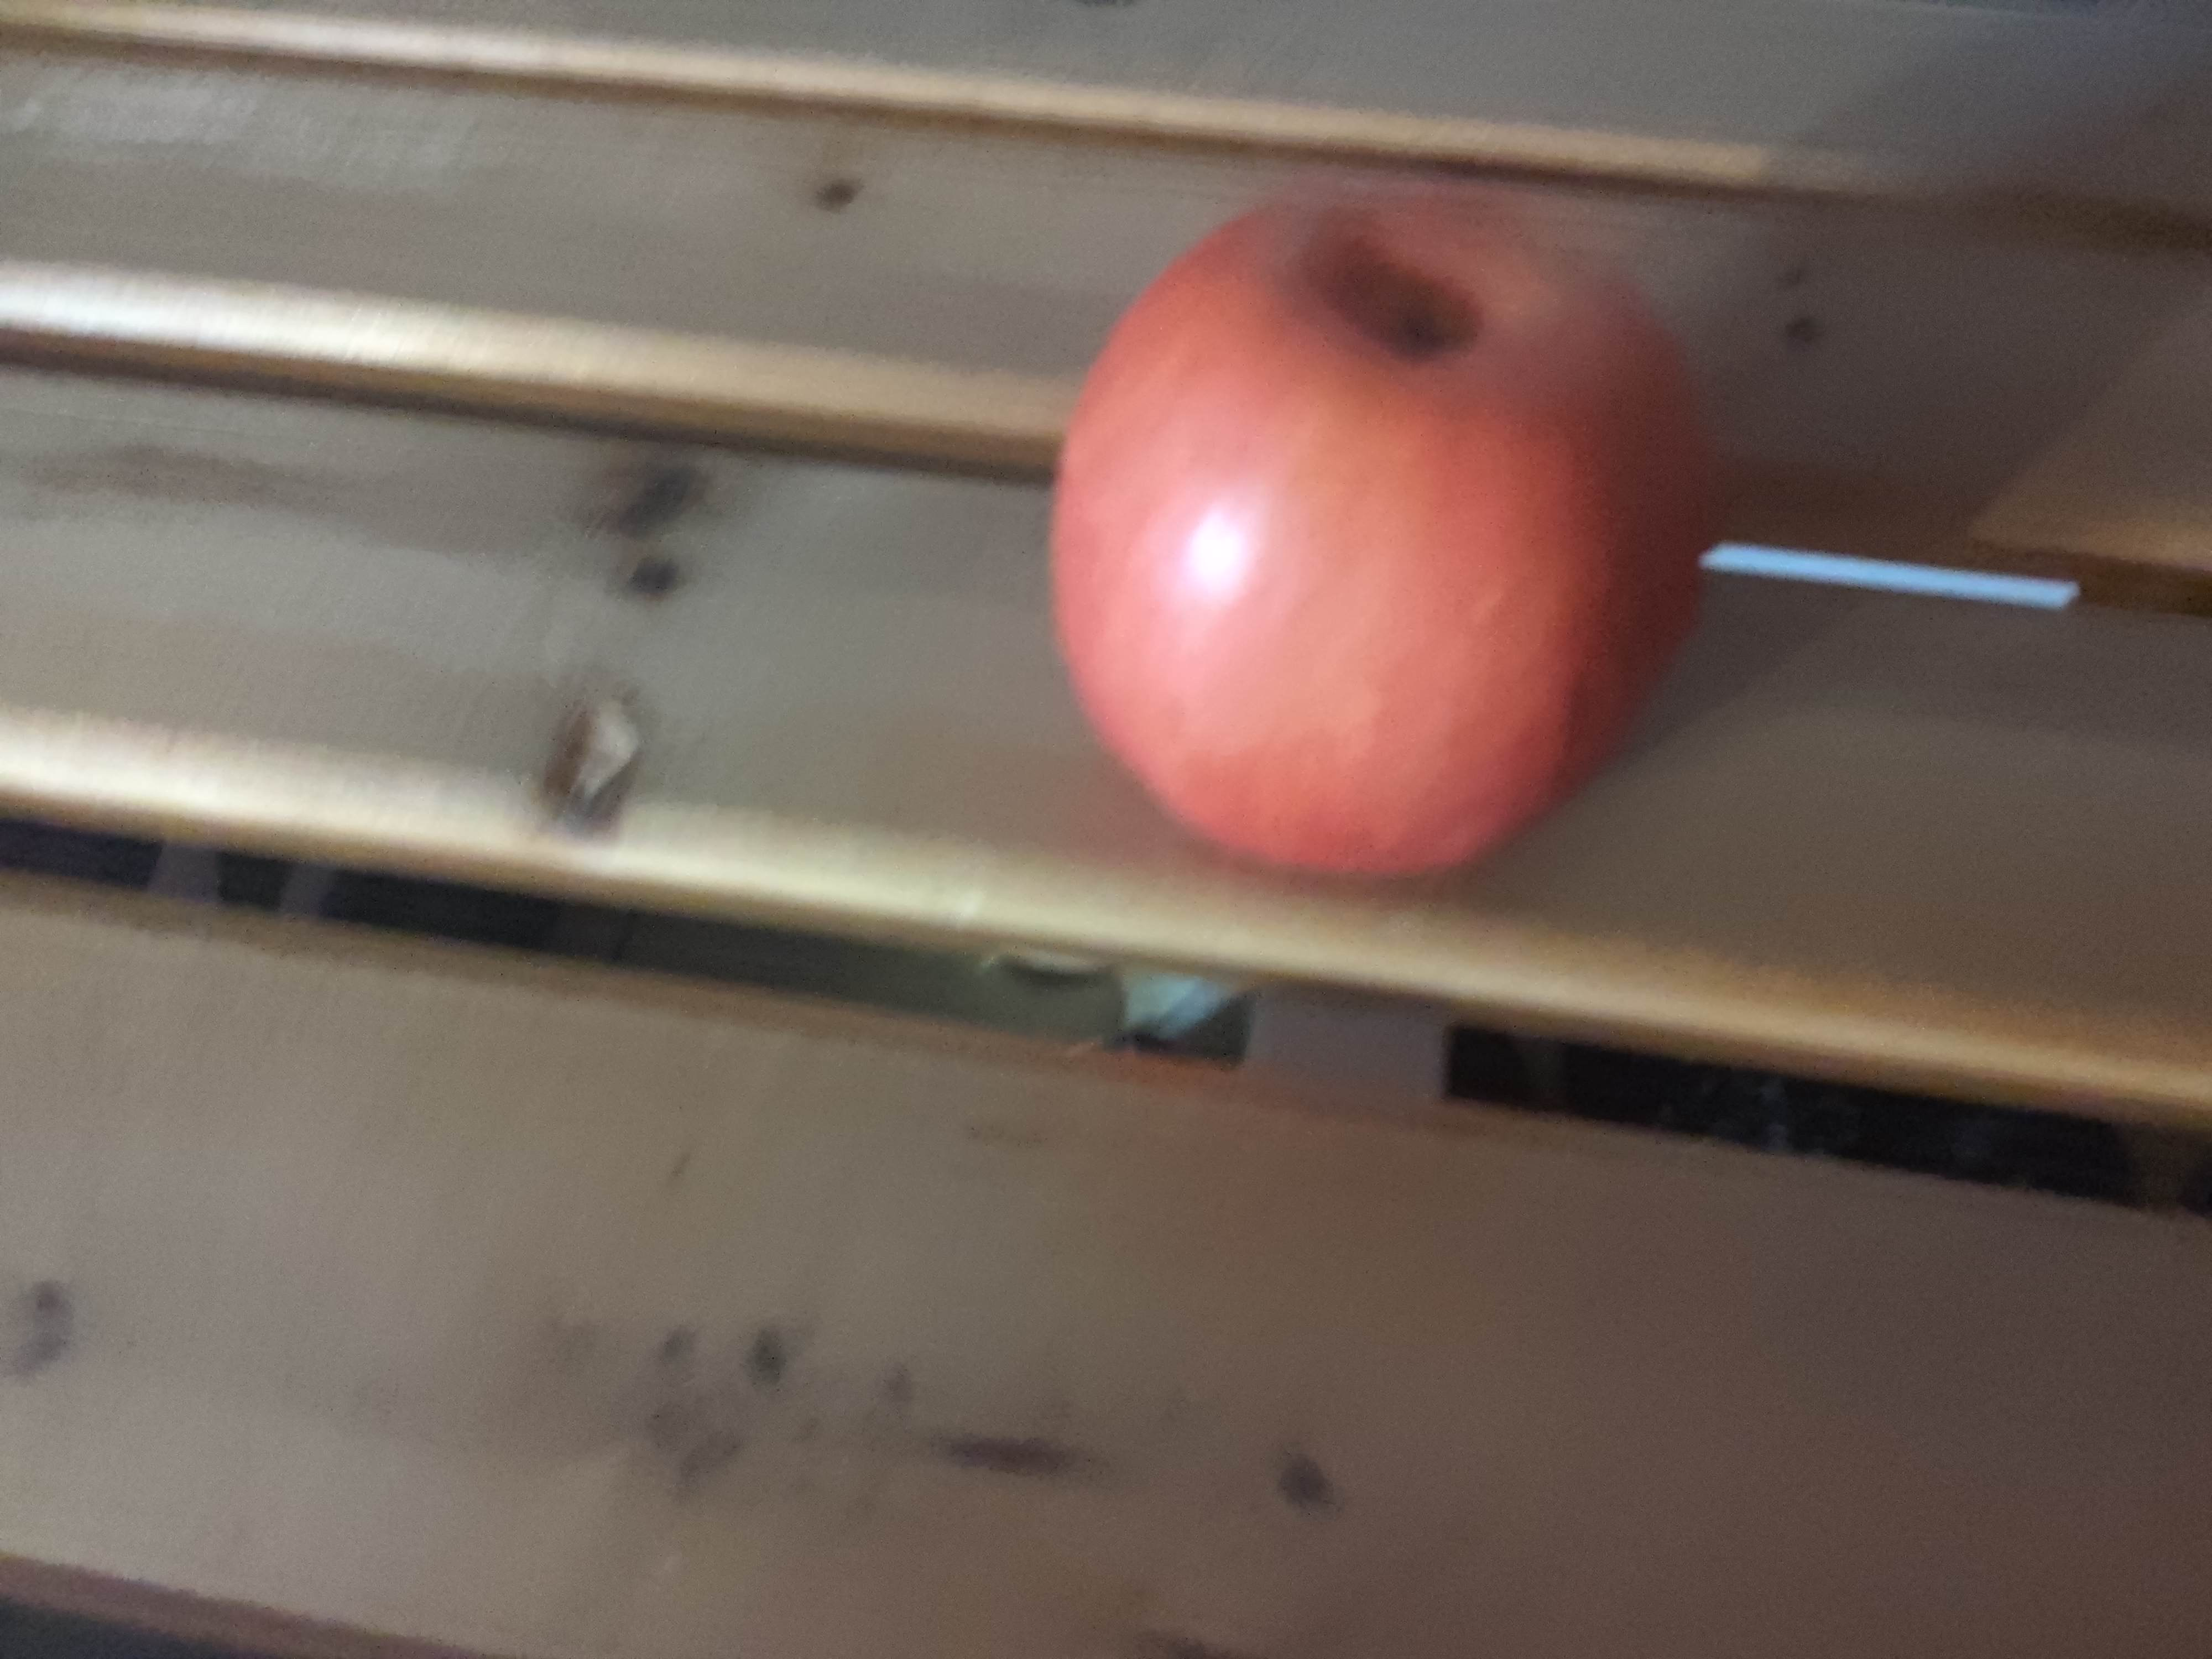apple: (1052, 181, 1716, 884)
